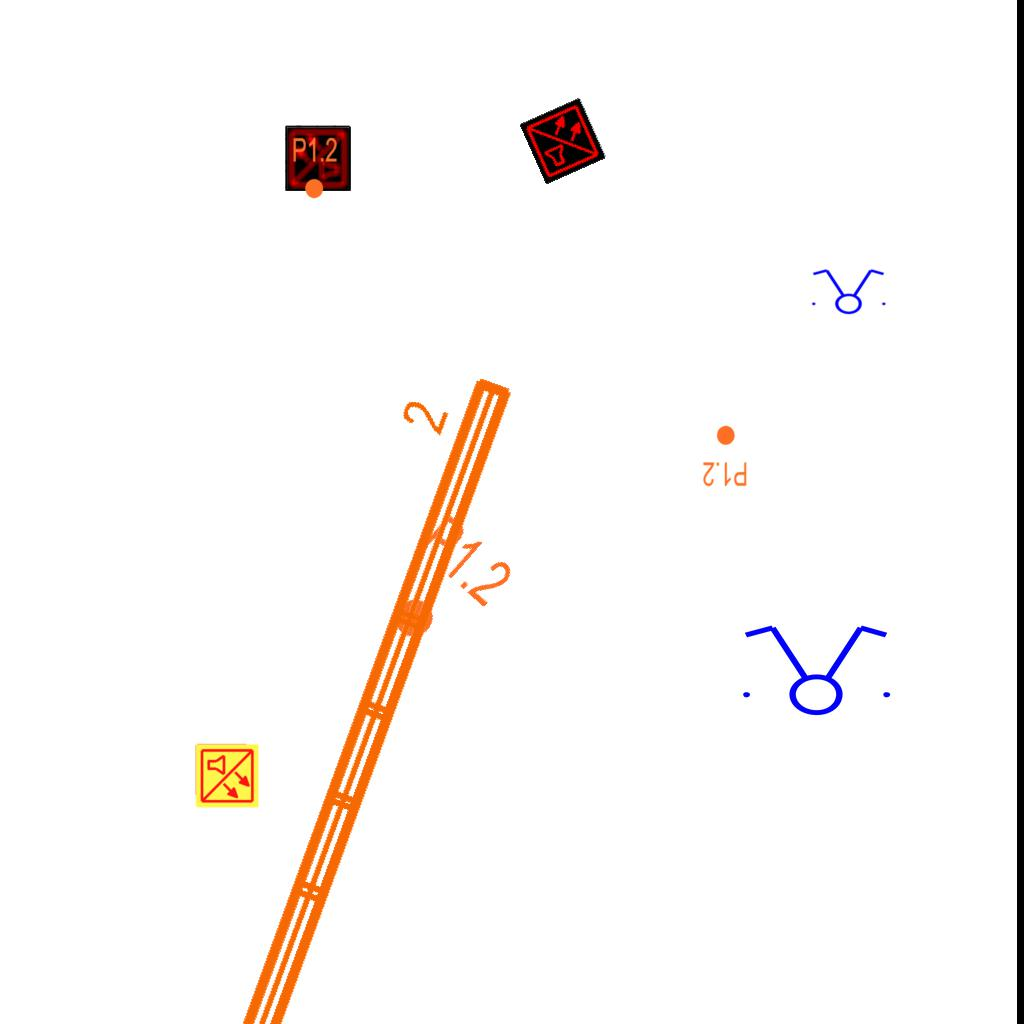Ambulanz_Pendelleuchte_LED: (157, 347, 527, 1024)
Downlight_LED_Einbauleuchten_Flur: (365, 509, 520, 667), (702, 424, 748, 488), (292, 136, 338, 200)
OKW_Multisensormelder_(Kombination_optischer_Rauch-Kahlenmonoxid_Waerme-Melder): (519, 97, 607, 185), (285, 125, 351, 191), (194, 743, 260, 809)
Serienschalter: (731, 621, 899, 717), (806, 267, 890, 315)
